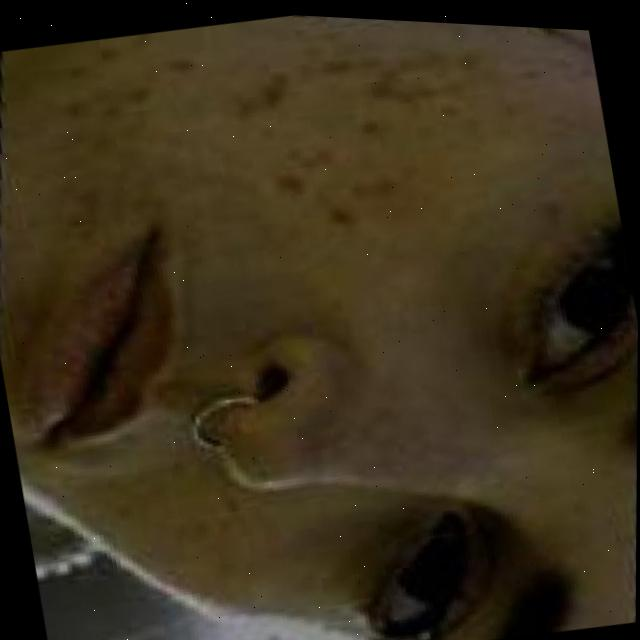Acne: (14, 1, 594, 323)
